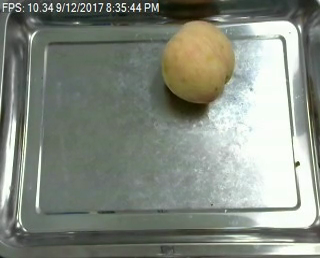Peach: (161, 20, 235, 104)
